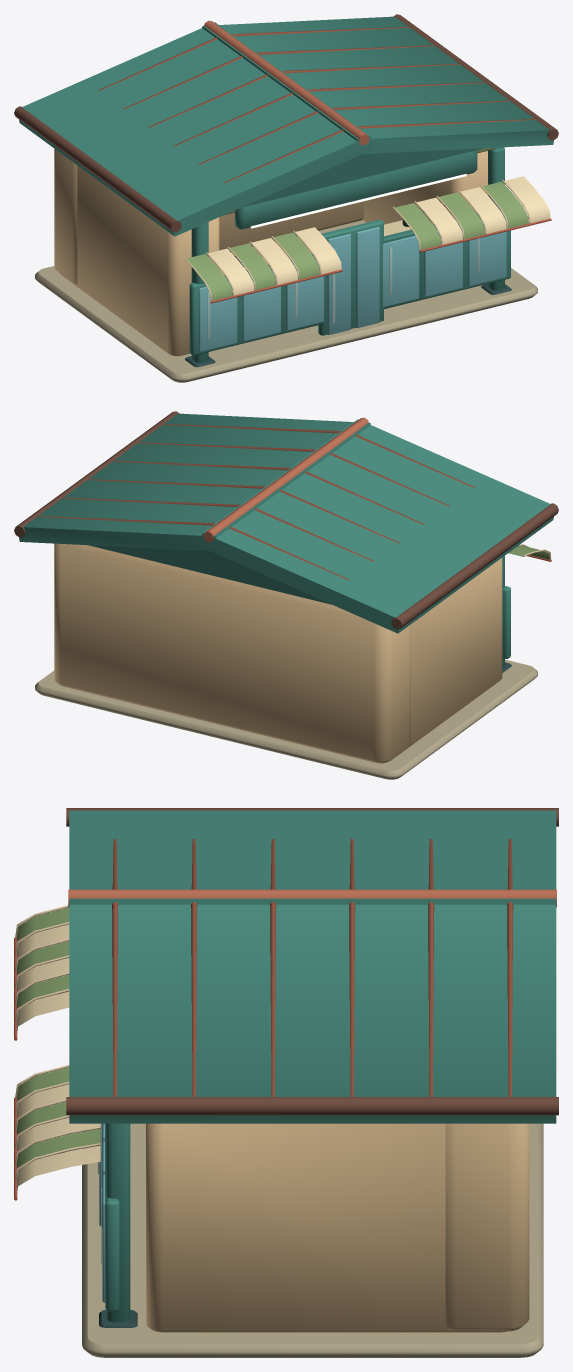
The model's file is tropical_market.glb.
The picture shows the model from 3 angles, top to bottom: view 1: azimuth 30°, elevation 25°; view 2: azimuth 150°, elevation 25°; view 3: azimuth 270°, elevation 25°; orthographic projection. The views are drawn at different scales.
Visible parts, largest first — view 1: TropicalMarket; view 2: TropicalMarket; view 3: TropicalMarket.
Part boxes in pixels (x1=…): TropicalMarket: x1=14, y1=14, x2=558, y2=382; TropicalMarket: x1=14, y1=411, x2=558, y2=779; TropicalMarket: x1=14, y1=808, x2=558, y2=1357.
Bounding box in the file's own units: 7.49 × 3.88 × 5.81.
